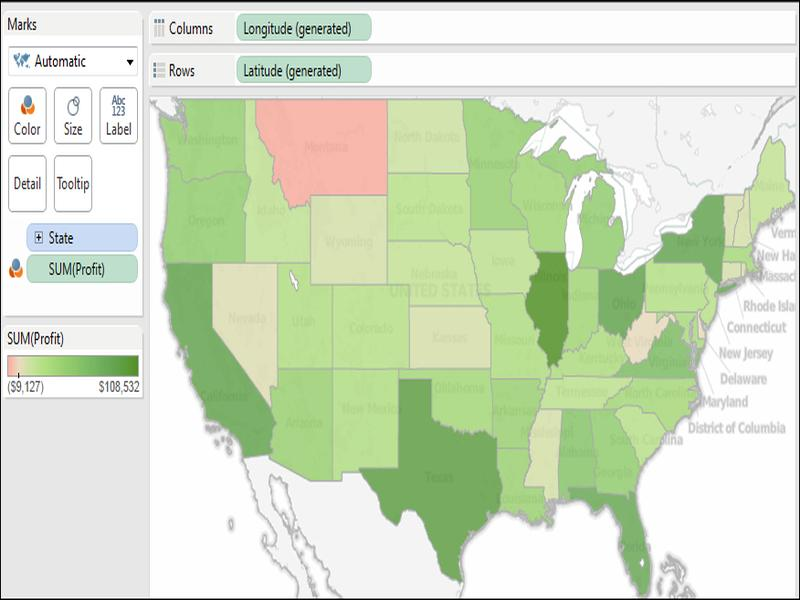legend: (2, 323, 144, 398)
